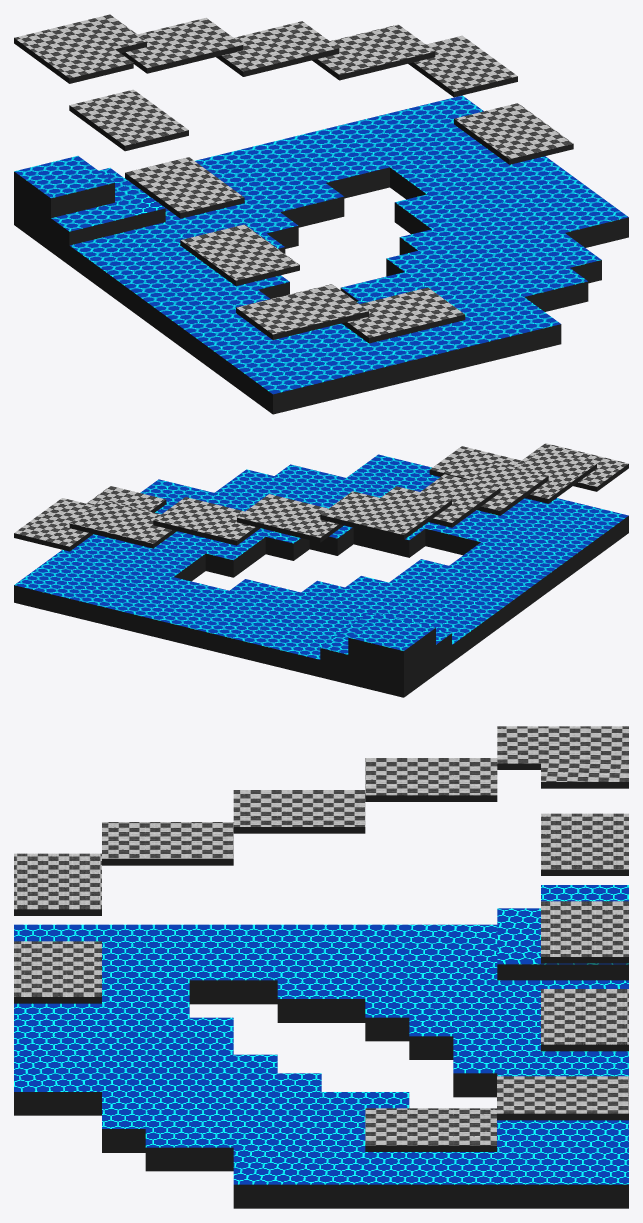
The model's file is stairs.glb.
The picture shows the model from 3 angles, top to bottom: view 1: azimuth 30°, elevation 25°; view 2: azimuth 150°, elevation 25°; view 3: azimuth 270°, elevation 25°; orthographic projection. The views are drawn at different scales.
Parts seen in each view (by area): view 1: level-col; view 2: level-col; view 3: level-col.
Part boxes in pixels (bbox=[...]): level-col: bbox=[14, 14, 628, 414]; level-col: bbox=[14, 443, 628, 697]; level-col: bbox=[14, 726, 628, 1208].
Size of the model in its own units: 14 by 5.58 by 14.
3 materials, 3 textured.
